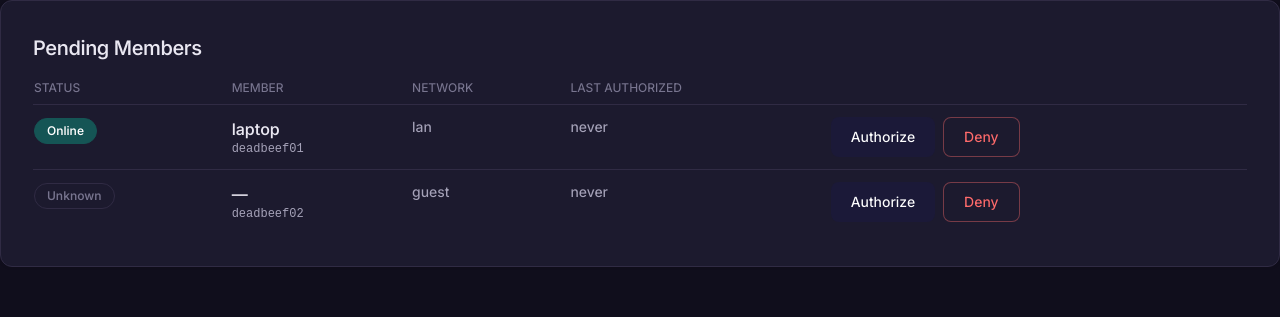
Test: PendingMembers › restores the optimistically hidden row when authorize fails
This screenshot has width=1280, height=317.
Expected: the text "laptop" is shown, x1=232 y1=119 x2=280 y2=139
What coordinates should you click on to do the following:
click the button "Authorize" in the row of "Online"
I would click on:
 (883, 137)
Its box is x1=831 y1=117 x2=935 y2=157.
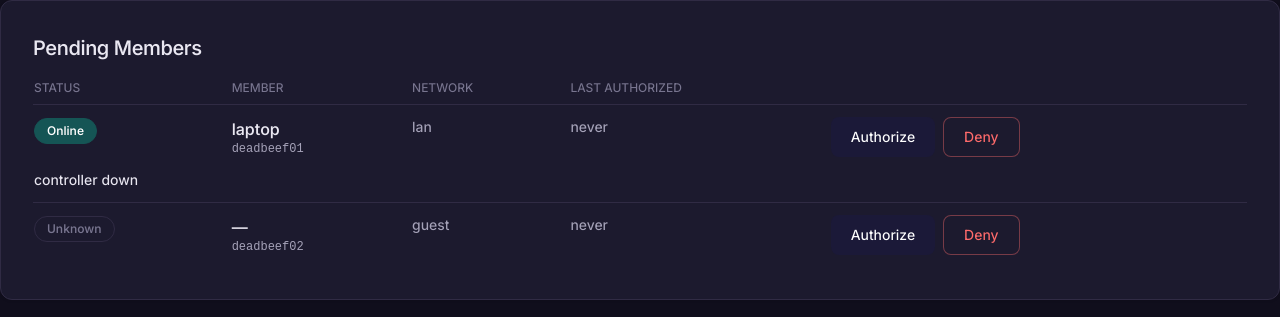
Expected: the text "laptop" is shown, x1=232 y1=119 x2=280 y2=139
Now the message reads "controller down", box x1=34 y1=171 x2=138 y2=188
